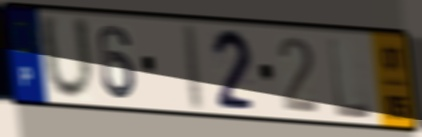2: (211, 25, 261, 116), (276, 34, 319, 116)
6: (95, 22, 139, 101)
I: (184, 21, 207, 114)
L: (325, 34, 375, 121)
U: (37, 11, 98, 105)
